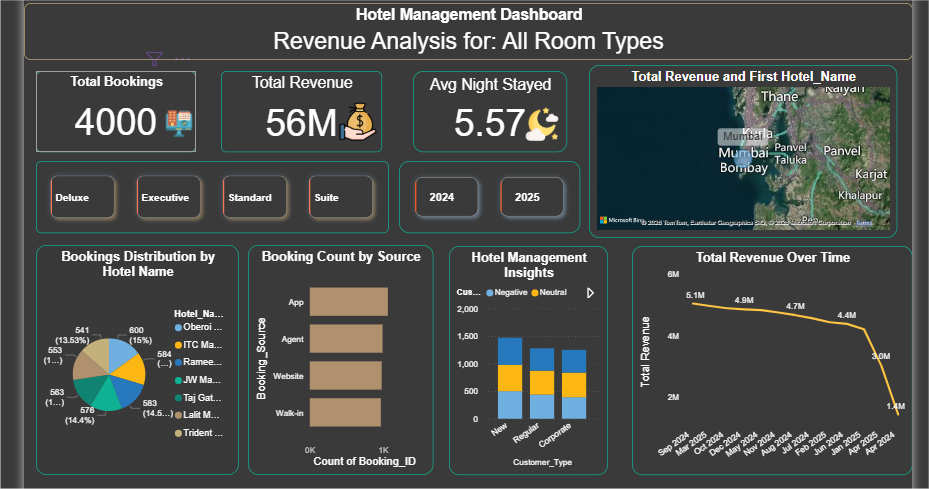

The page's visual inventory and layout, read from the dashboard file:
{"tool":"powerbi","page":{"name":"Page 1","canvas":[1280,720],"ordinal":0},"visuals":[{"type":"card","title":"Total Bookings","fields":{"Values":["Mumbai_Hotel_Management_4000.Total Bookings"]},"box":[17.3,109.4,230.4,116.6],"z":0},{"type":"card","title":"Total Revenue","fields":{"Values":["Mumbai_Hotel_Management_4000.Total Revenue"]},"box":[283.7,109.4,231.8,116.6],"z":1000},{"type":"card","title":"Avg Night Stayed","fields":{"Values":["Mumbai_Hotel_Management_4000.Average Nights Stayed"]},"box":[560.2,109.4,221.8,116.6],"z":2000},{"type":"card","title":"Hotel Management Dashboard","fields":{"Values":["Mumbai_Hotel_Management_4000.Page Title"]},"box":[0,11.5,1280.2,82.1],"z":3000},{"type":"pieChart","title":"Bookings Distribution by Hotel Name","fields":{"Category":["Mumbai_Hotel_Management_4000.Hotel_Name"],"Y":["CountNonNull(Mumbai_Hotel_Management_4000.Booking_ID)"]},"box":[17.1,359.5,292.3,331.4],"z":4000},{"type":"clusteredBarChart","title":"Booking Count by Source","fields":{"Category":["Mumbai_Hotel_Management_4000.Booking_Source"],"Y":["CountNonNull(Mumbai_Hotel_Management_4000.Booking_ID)"]},"box":[322.8,359.5,266.6,331.4],"z":5000},{"type":"advancedSlicerVisual","fields":{"Values":["Mumbai_Hotel_Management_4000.Room_Type"]},"box":[17.3,239,508.3,103.7],"z":6000},{"type":"map","title":"Total Revenue and First Hotel_Name","fields":{"Category":["Mumbai_Hotel_Management_4000.City"]},"box":[813.6,100.8,443.5,249.1],"z":7000},{"type":"advancedSlicerVisual","fields":{"Values":["Mumbai_Hotel_Management_4000.Year"]},"box":[540,239,260.6,103.7],"z":8000},{"type":"lineChart","title":"Total Revenue Over Time","fields":{"Category":["Mumbai_Hotel_Management_4000.MonthYear"],"Y":["Mumbai_Hotel_Management_4000.Total Revenue"]},"box":[875.7,361.4,404.3,330],"z":9000},{"type":"image","box":[198.7,164.2,49,41.8],"z":10000},{"type":"image","box":[446.4,149.8,69.1,64.8],"z":11000},{"type":"image","box":[709.9,157,72,57.6],"z":12000},{"type":"columnChart","title":"Hotel Management Insights","fields":{"Category":["Mumbai_Hotel_Management_4000.Customer_Type"],"Y":["CountNonNull(Mumbai_Hotel_Management_4000.Booking_ID)"],"Series":["Mumbai_Hotel_Management_4000.Customer_Sentiment"]},"box":[612,361.4,229,329.8],"z":14000}]}

Visuals, with their boxes on the page's 1280x720 design canvas (x1, y1, x2, y2). These are canvas units, not pixel positions in the 929x489 screenshot, which may show the page scaled, cropped or inside an application window:
"Total Bookings" card: box(17, 109, 248, 226)
"Total Revenue" card: box(284, 109, 516, 226)
"Avg Night Stayed" card: box(560, 109, 782, 226)
"Hotel Management Dashboard" card: box(0, 12, 1280, 94)
"Bookings Distribution by Hotel Name" pieChart: box(17, 360, 309, 691)
"Booking Count by Source" clusteredBarChart: box(323, 360, 589, 691)
advancedSlicerVisual - Mumbai_Hotel_Management_4000.Room_Type: box(17, 239, 526, 343)
"Total Revenue and First Hotel_Name" map: box(814, 101, 1257, 350)
advancedSlicerVisual - Mumbai_Hotel_Management_4000.Year: box(540, 239, 801, 343)
"Total Revenue Over Time" lineChart: box(876, 361, 1280, 691)
image: box(199, 164, 248, 206)
image: box(446, 150, 516, 215)
image: box(710, 157, 782, 215)
"Hotel Management Insights" columnChart: box(612, 361, 841, 691)
